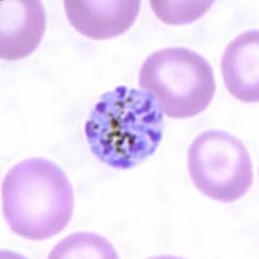Infected: (85, 84, 165, 167)
Uninfected: (1, 156, 74, 240), (139, 47, 216, 119), (187, 128, 254, 203)
